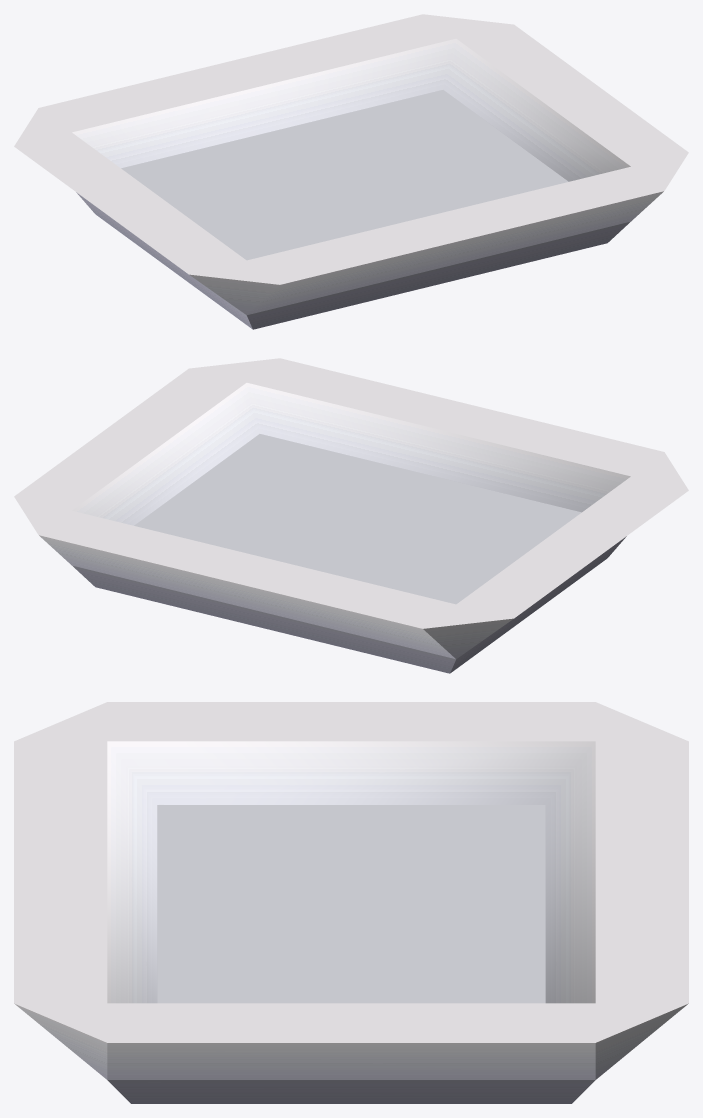
Rendered from plate-rectangle.glb.
3 renders of one model, top to bottom at view 1: azimuth 30°, elevation 25°; view 2: azimuth 150°, elevation 25°; view 3: azimuth 270°, elevation 25°, orthographic. The views are drawn at different scales.
Parts seen in each view (by area): view 1: plate-rectangle; view 2: plate-rectangle; view 3: plate-rectangle.
Part boxes in pixels (<box>): plate-rectangle: <box>14,14,688,329</box>; plate-rectangle: <box>14,358,688,673</box>; plate-rectangle: <box>14,702,688,1103</box>.
Bounding box in the file's own units: 0.8586 × 0.13 × 0.7186.
Materials: 1 (1 with a texture image).
